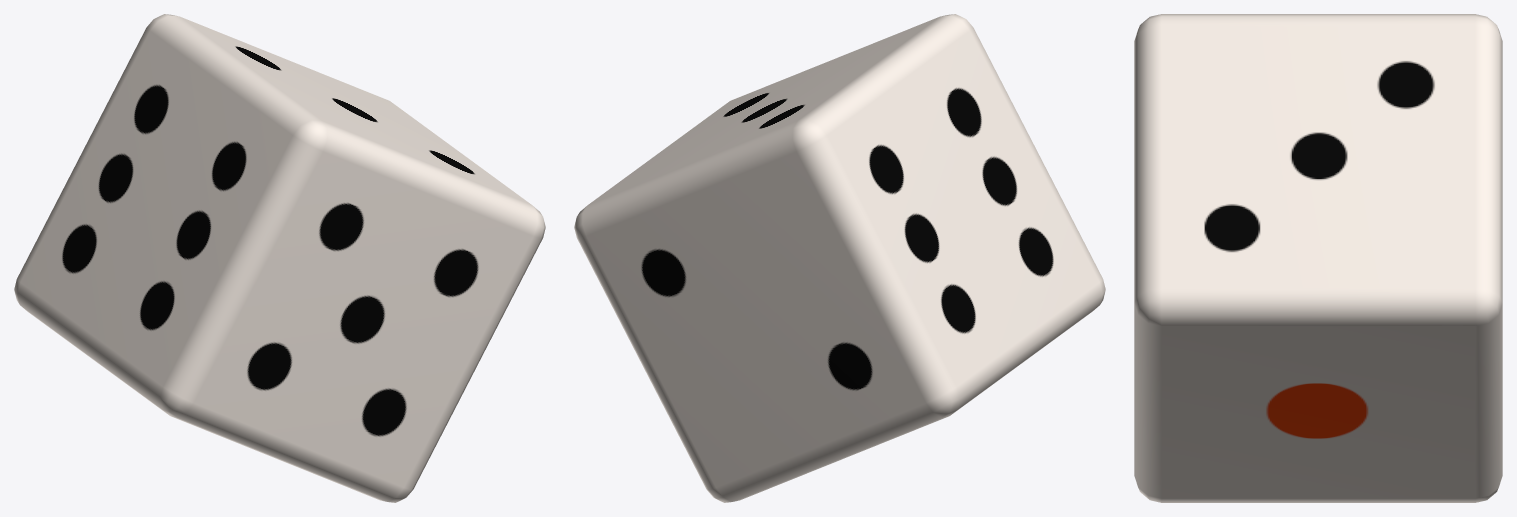
Rendered from dice_6_Anim.fbx.
3 renders of one model, left to right at view 1: azimuth 30°, elevation 25°; view 2: azimuth 150°, elevation 25°; view 3: azimuth 270°, elevation 25°, orthographic. The views are drawn at different scales.
Parts seen in each view (by area): view 1: dice6:pCube1; view 2: dice6:pCube1; view 3: dice6:pCube1.
Boxes of the visible parts, bbox=[...] form: dice6:pCube1: bbox=[14, 14, 545, 502]; dice6:pCube1: bbox=[574, 14, 1105, 502]; dice6:pCube1: bbox=[1134, 14, 1502, 502].
Bounding box in the file's own units: 0.8066 × 0.8066 × 0.6109.
